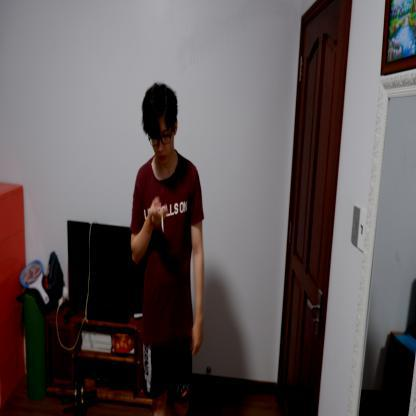cigarette: (160, 212, 164, 235)
person: (127, 78, 206, 415)
